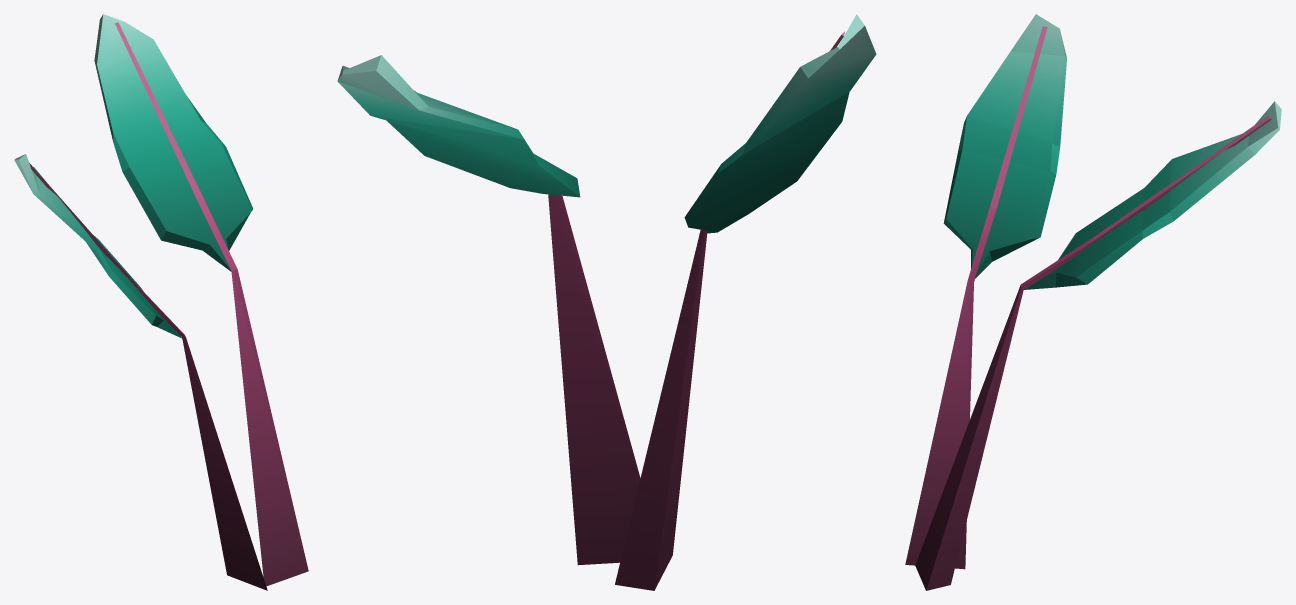
The model's file is Plant_B_2.fbx.
3 renders of one model, left to right at view 1: azimuth 30°, elevation 25°; view 2: azimuth 150°, elevation 25°; view 3: azimuth 270°, elevation 25°, orthographic. The views are drawn at different scales.
Parts seen in each view (by area): view 1: Plant_B_2; view 2: Plant_B_2; view 3: Plant_B_2.
Boxes of the visible parts, box(x1,y1,x2,y2) form: Plant_B_2: box(14, 14, 308, 590); Plant_B_2: box(337, 14, 876, 590); Plant_B_2: box(905, 14, 1281, 590).
Size of the model in its own units: 20.66 by 34.11 by 24.8.
